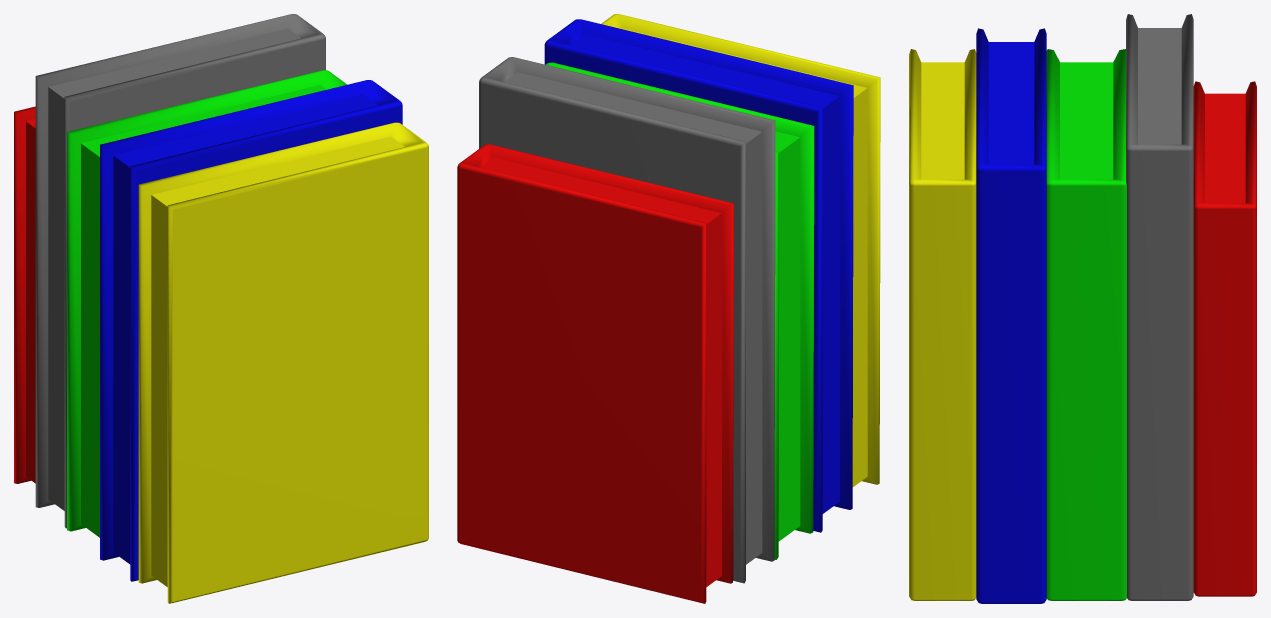
The model's file is SM_bookstack_01.fbx.
3 views of the same model, side by side, from view 1: azimuth 30°, elevation 25°; view 2: azimuth 150°, elevation 25°; view 3: azimuth 270°, elevation 25° (orthographic). The views are drawn at different scales.
Parts seen in each view (by area): view 1: SM_bookstack_01; view 2: SM_bookstack_01; view 3: SM_bookstack_01.
Part boxes in pixels (left/top/right/bottom): SM_bookstack_01: left=14, top=14, right=428, bottom=603; SM_bookstack_01: left=457, top=14, right=880, bottom=603; SM_bookstack_01: left=909, top=14, right=1256, bottom=603.
Size of the model in its own units: 43.48 by 66.01 by 45.68.
